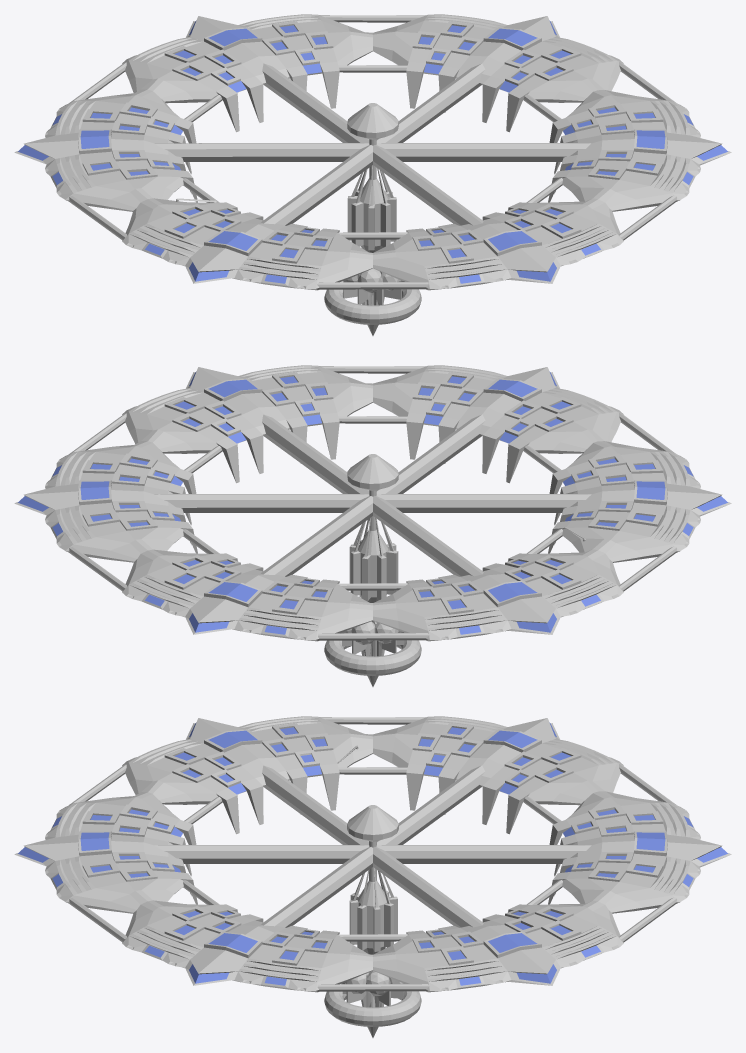
Rendered from station2.glb.
The picture shows the model from 3 angles, top to bottom: view 1: azimuth 30°, elevation 25°; view 2: azimuth 150°, elevation 25°; view 3: azimuth 270°, elevation 25°; orthographic projection.
Parts seen in each view (by area): view 1: Cylinder; view 2: Cylinder; view 3: Cylinder.
Part boxes in pixels (x1=…): Cylinder: x1=14, y1=14, x2=731, y2=335; Cylinder: x1=14, y1=365, x2=731, y2=686; Cylinder: x1=14, y1=716, x2=731, y2=1037.
Size of the model in its own units: 168 by 66.59 by 187.
Materials: 2 (1 with a texture image).
